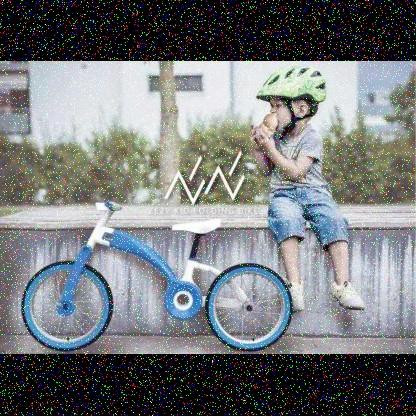Bicycle: (4, 195, 306, 359)
